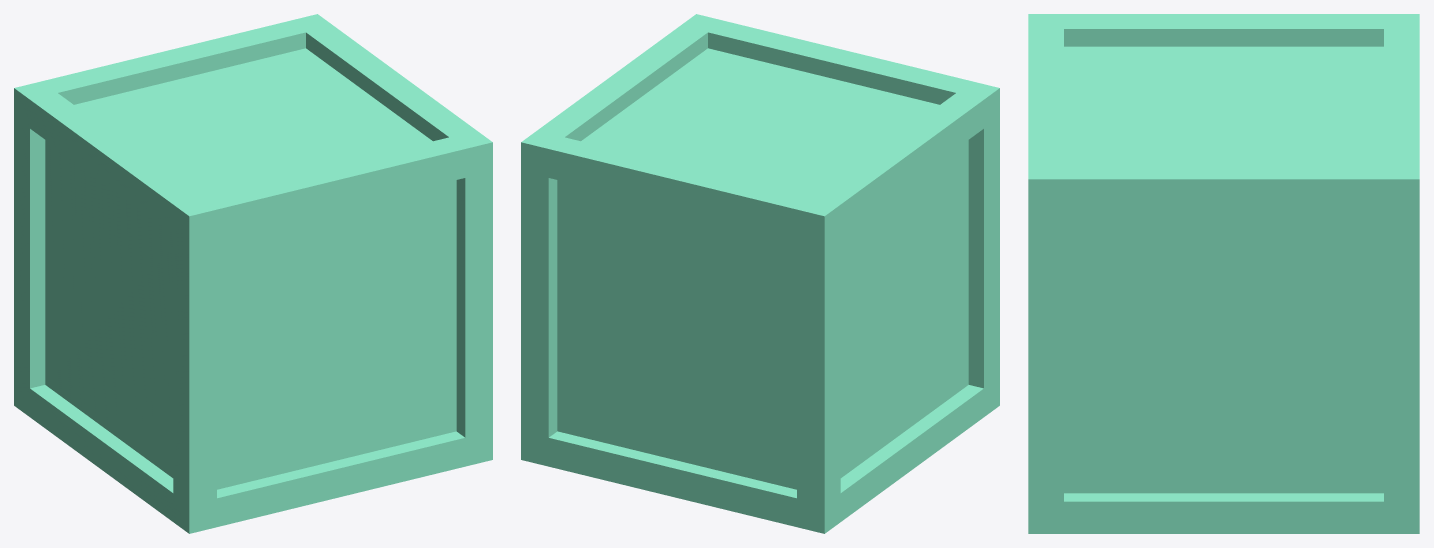
Rendered from Prop_Crate 1.FBX.
The picture shows the model from 3 angles, left to right: view 1: azimuth 30°, elevation 25°; view 2: azimuth 150°, elevation 25°; view 3: azimuth 270°, elevation 25°; orthographic projection. The views are drawn at different scales.
Visible parts, largest first — view 1: Box 1; view 2: Box 1; view 3: Box 1.
Part boxes in pixels (box(x1,y1,x2,y2)): Box 1: box(14, 14, 492, 533); Box 1: box(521, 14, 999, 533); Box 1: box(1028, 14, 1419, 533).
Bounding box in the file's own units: 100 × 100 × 100.
